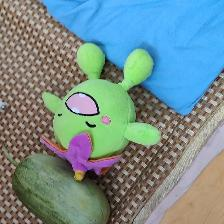gua: (20, 158, 96, 218)
